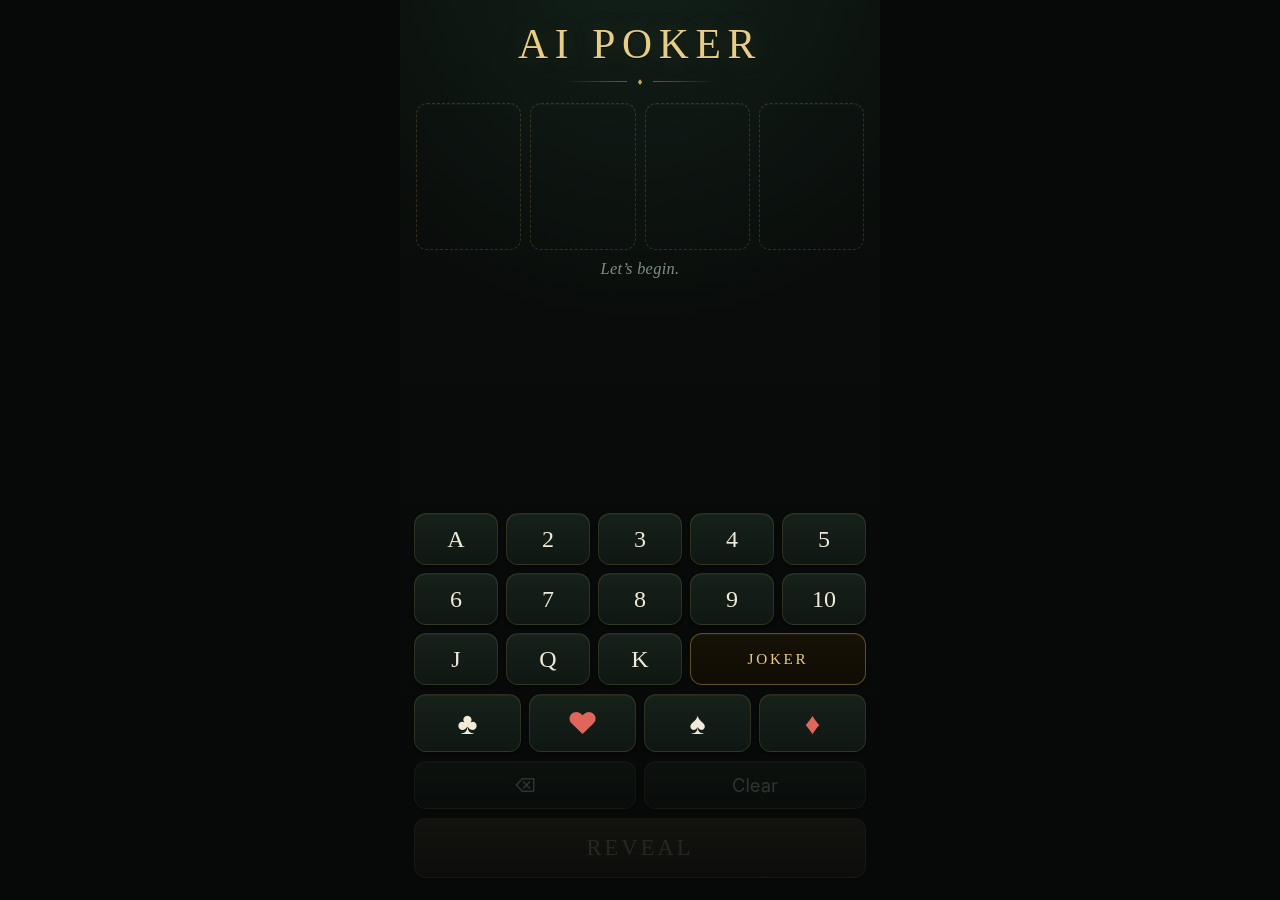
Test: facial analysis (presentation) › appears when enabled and opens/closes the scan overlay (fake fallback in jsdom)
This screenshot has width=1280, height=900.
Later steps or results of the test are not shown.
Click the button "A" at point(456, 539), box [414,513,498,565]
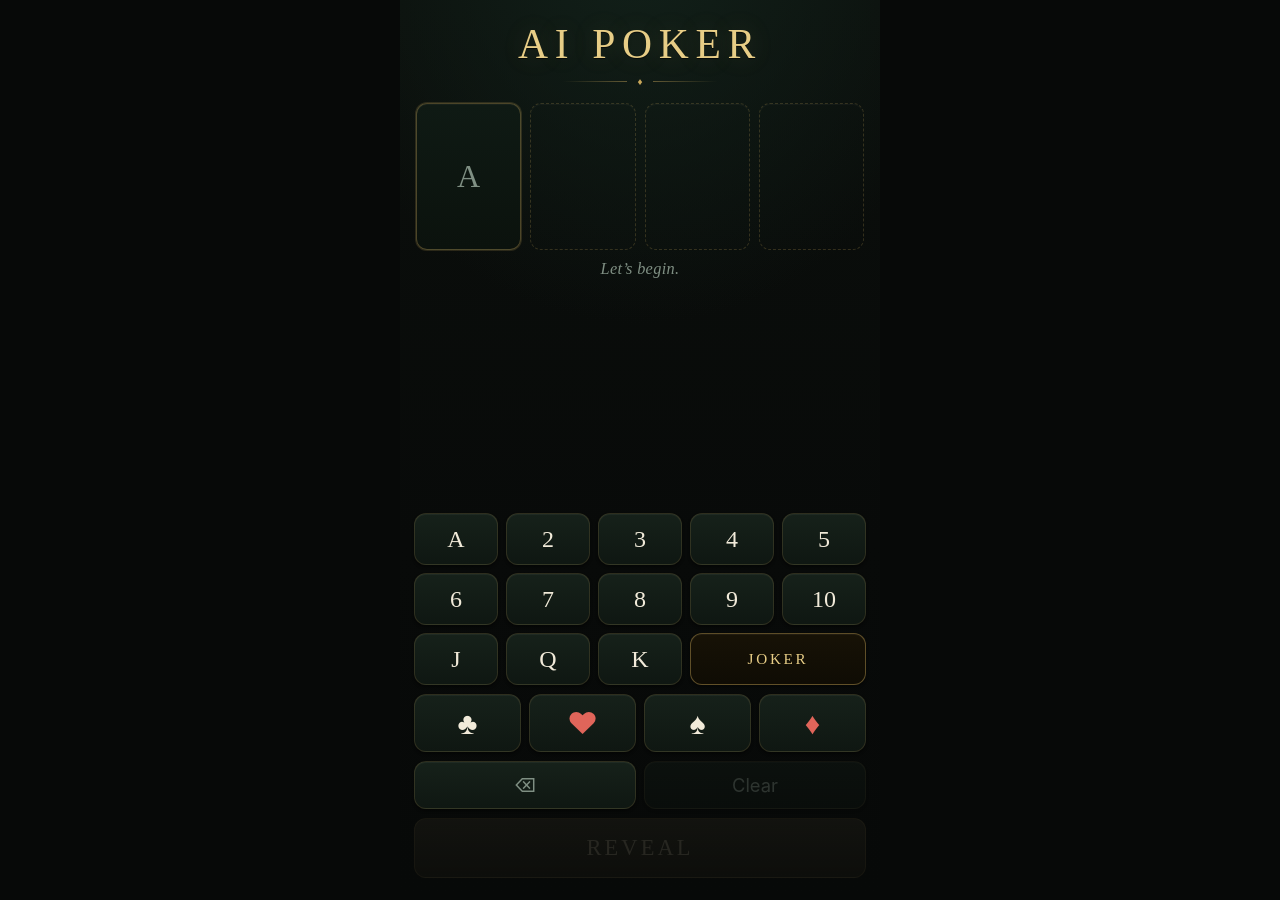
Click the button "A" at point(456, 539), box [414,513,498,565]
Click the button "A" at point(456, 539), box [414,513,498,565]
(page scrolled)
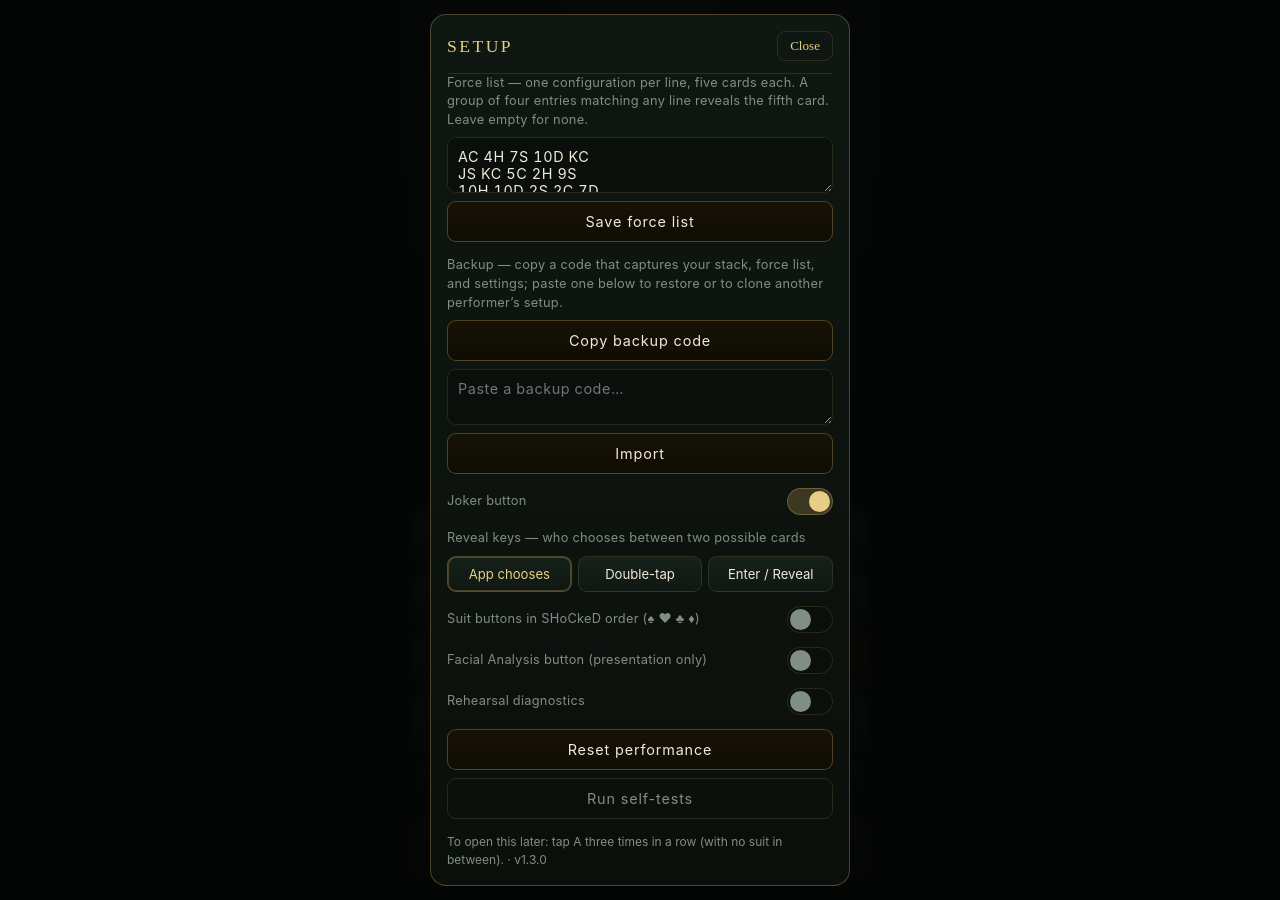
Click the switch named "Facial Analysis button" at point(810, 660), box [787,647,833,674]
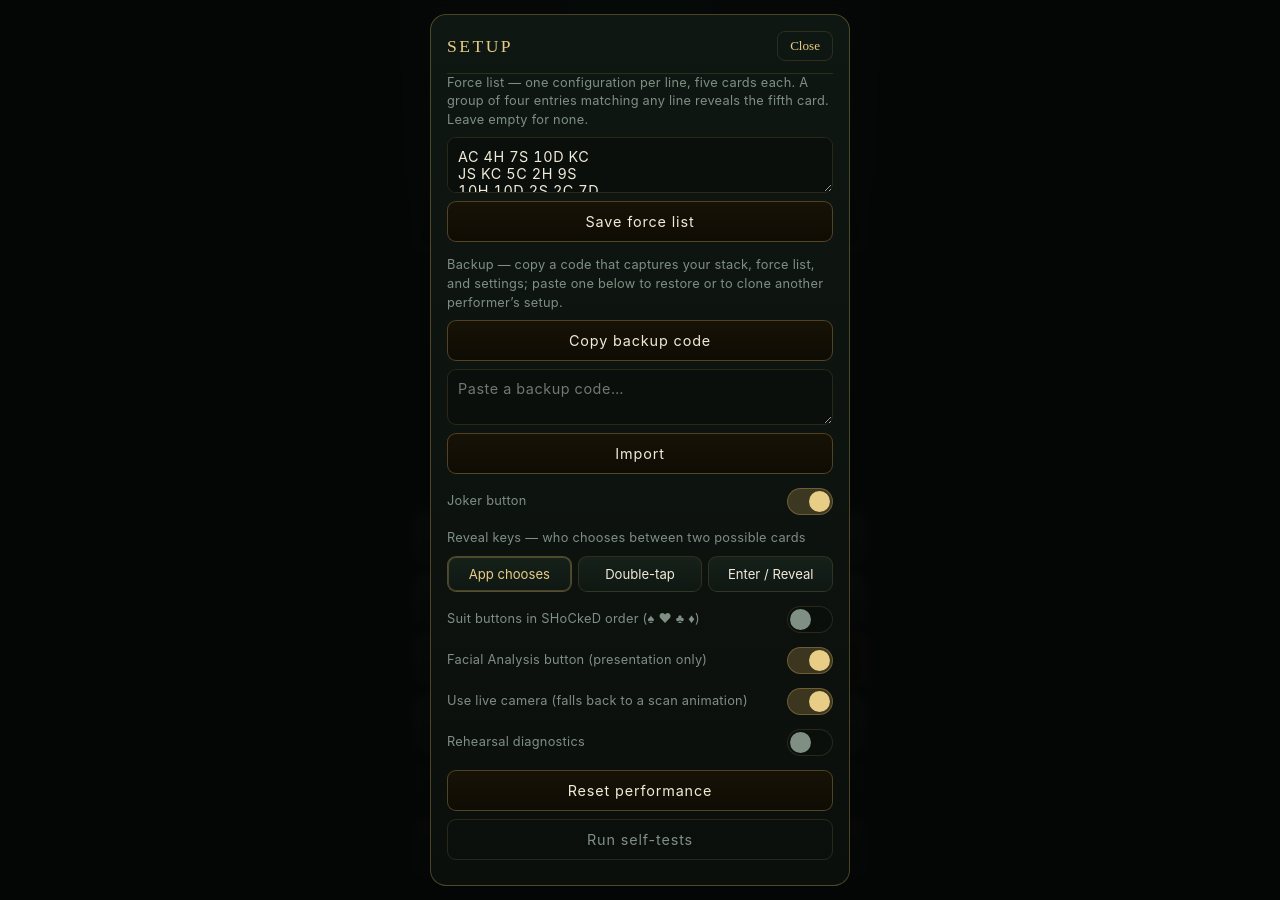
Click the button "Close" at point(805, 46), box [777,31,833,61]
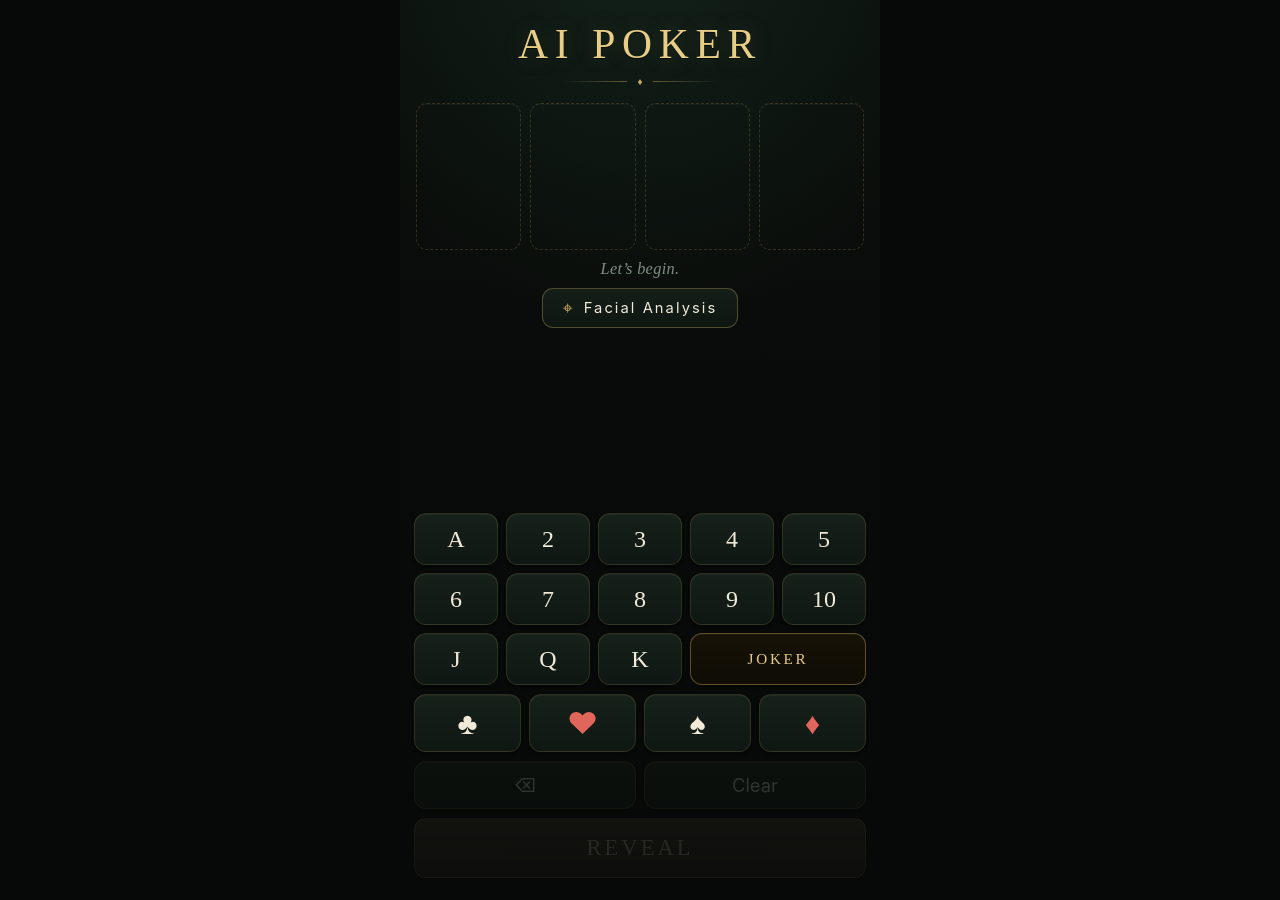
Click the button "⌖ Facial Analysis" at point(640, 308), box [542,288,738,328]
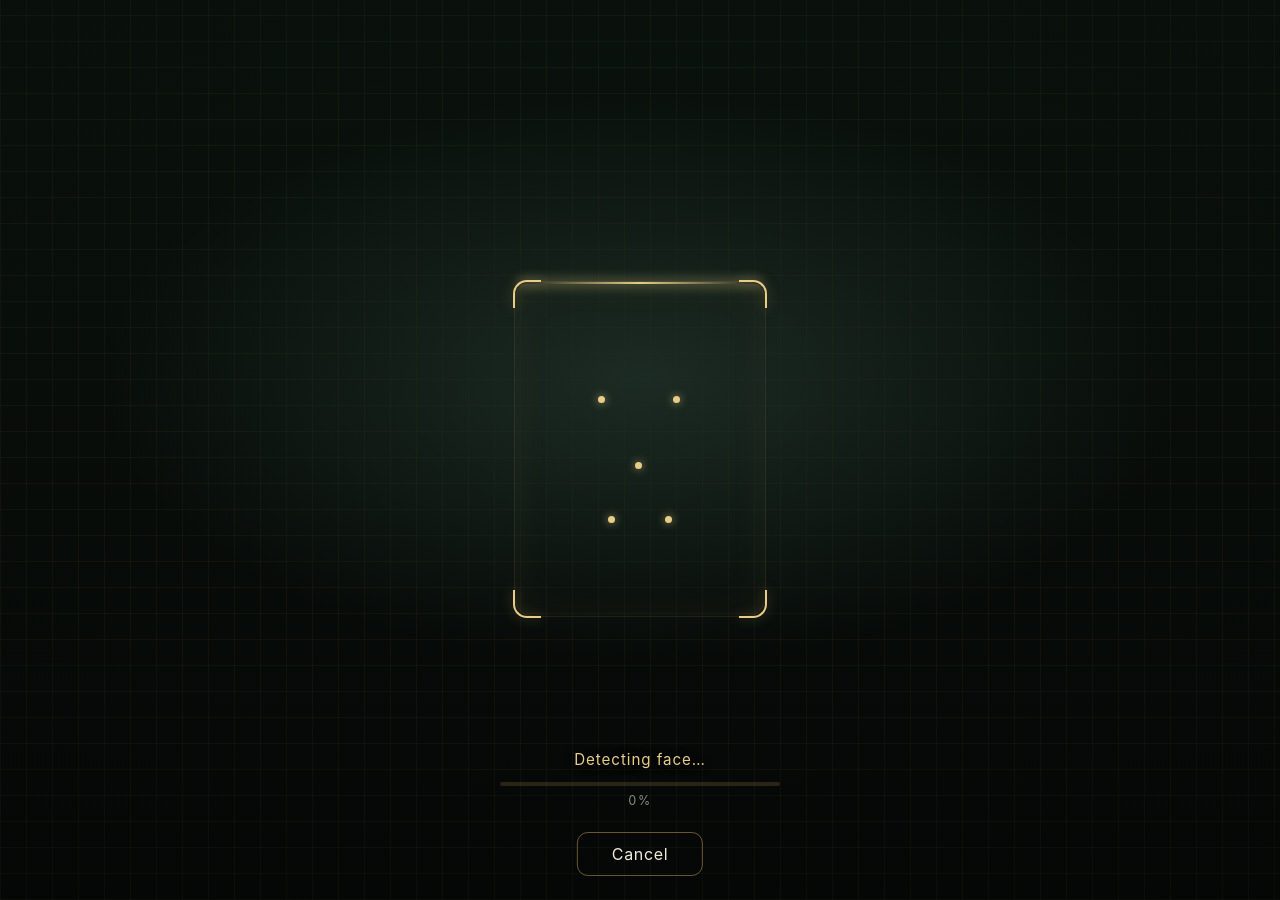
Expected: the dialog named "Facial analysis" is shown
